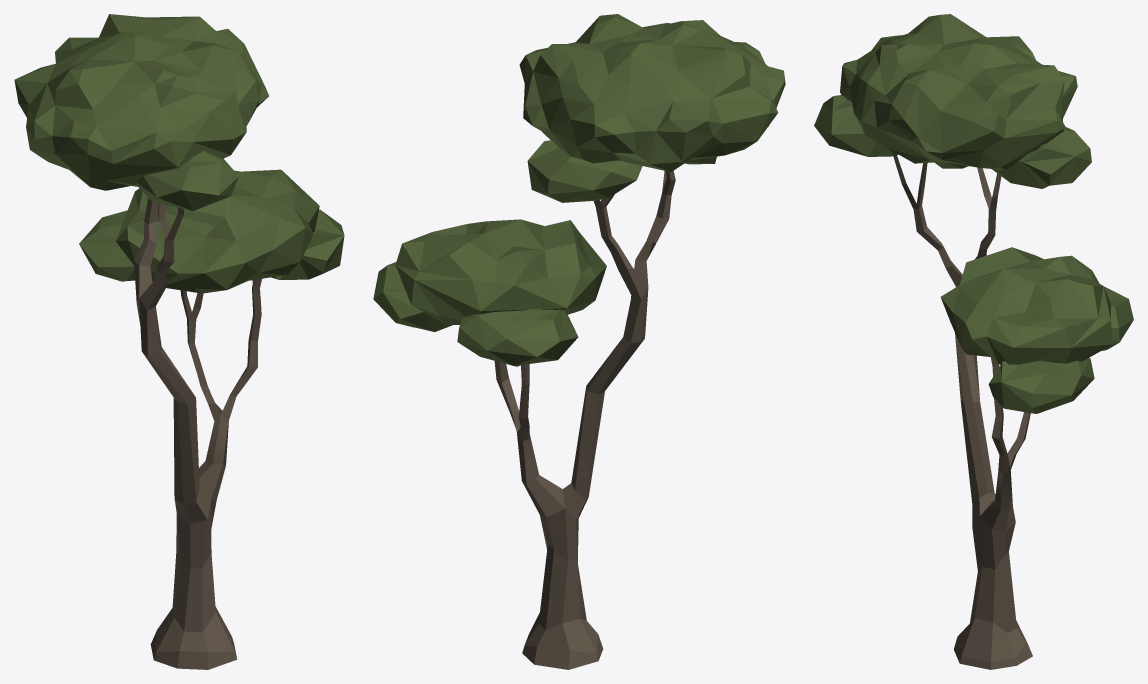
File: Tree_092.fbx
3 renders of one model, left to right at view 1: azimuth 30°, elevation 25°; view 2: azimuth 150°, elevation 25°; view 3: azimuth 270°, elevation 25°, orthographic. The views are drawn at different scales.
Parts seen in each view (by area): view 1: Tree_092; view 2: Tree_092; view 3: Tree_092.
Part boxes in pixels (x1,y1,x2,y2): Tree_092: [14, 14, 344, 669]; Tree_092: [373, 14, 785, 669]; Tree_092: [814, 14, 1133, 669].
Size of the model in its own units: 0.9481 by 1.6 by 0.8019.
1 material, 1 textured.
